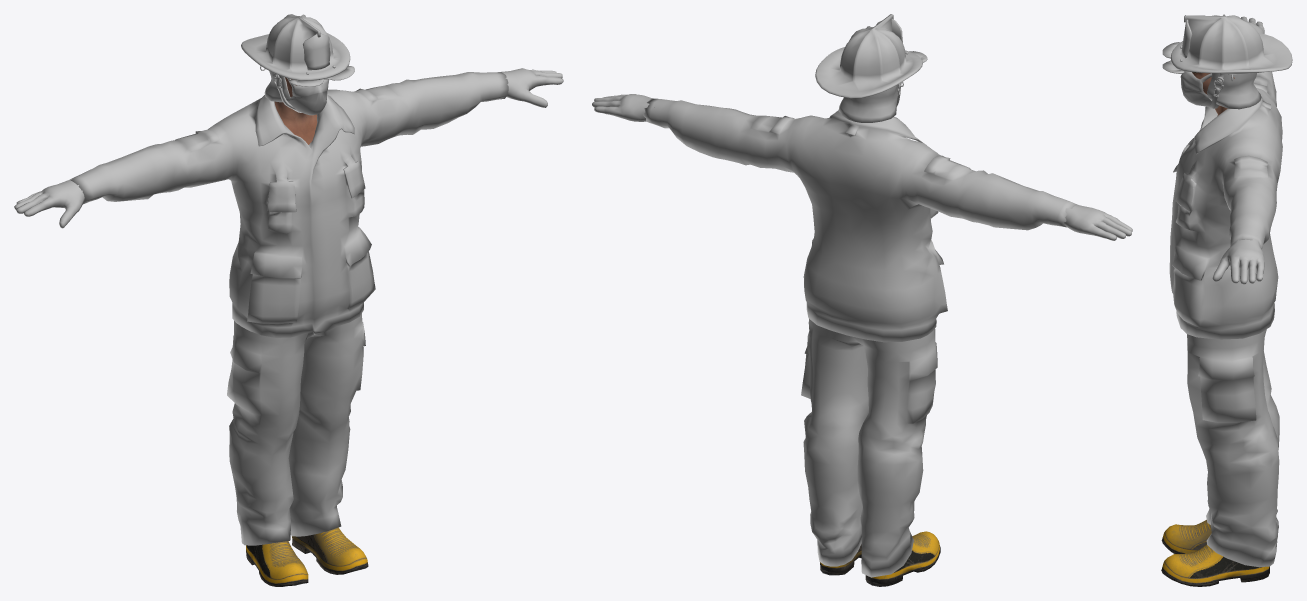
File: firefighter.glb
3 views of the same model, side by side, from view 1: azimuth 30°, elevation 25°; view 2: azimuth 150°, elevation 25°; view 3: azimuth 270°, elevation 25° (orthographic).
Visible parts, largest first — view 1: Tops, Bottoms, Hats, Shoes, Gloves, Masks, Body; view 2: Tops, Bottoms, Hats, Gloves, Shoes; view 3: Tops, Bottoms, Hats, Shoes, Gloves, Masks, Body.
Boxes of the visible parts, left/top/right/bottom form: Tops: left=70, top=72, right=508, bottom=337; Bottoms: left=227, top=313, right=365, bottom=545; Hats: left=241, top=14, right=354, bottom=109; Shoes: left=246, top=527, right=368, bottom=586; Gloves: left=14, top=68, right=563, bottom=228; Masks: left=287, top=78, right=328, bottom=115; Body: left=274, top=77, right=317, bottom=144; Tops: left=643, top=98, right=1076, bottom=342; Bottoms: left=801, top=319, right=937, bottom=577; Hats: left=815, top=14, right=927, bottom=122; Gloves: left=592, top=94, right=1132, bottom=240; Shoes: left=820, top=531, right=940, bottom=586; Tops: left=1169, top=71, right=1282, bottom=339; Bottoms: left=1187, top=329, right=1279, bottom=567; Hats: left=1162, top=14, right=1292, bottom=109; Shoes: left=1161, top=520, right=1269, bottom=586; Gloves: left=1212, top=16, right=1264, bottom=284; Masks: left=1180, top=71, right=1218, bottom=108; Body: left=1192, top=72, right=1234, bottom=115.
Size of the model in its own units: 194 by 186 by 40.34.
7 materials, 2 textured.
